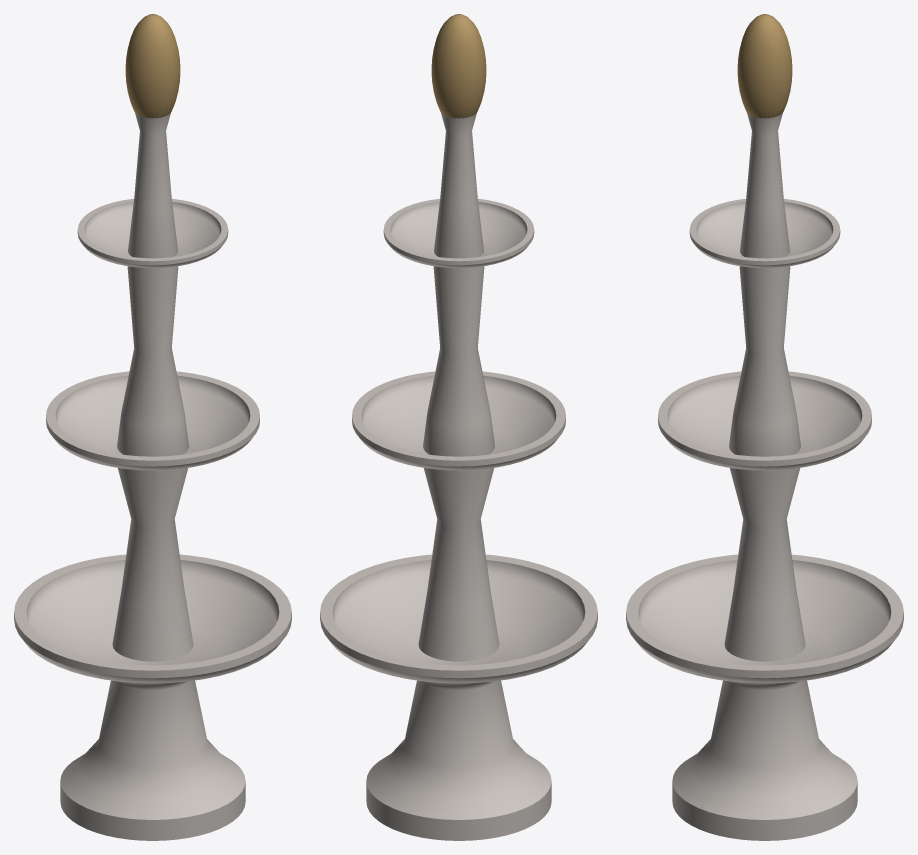
Rendered from desktop.glb.
3 renders of one model, left to right at view 1: azimuth 30°, elevation 25°; view 2: azimuth 150°, elevation 25°; view 3: azimuth 270°, elevation 25°, orthographic.
Bounding box in the file's own units: 0.96 × 3 × 0.96.
1 material, 1 textured.
